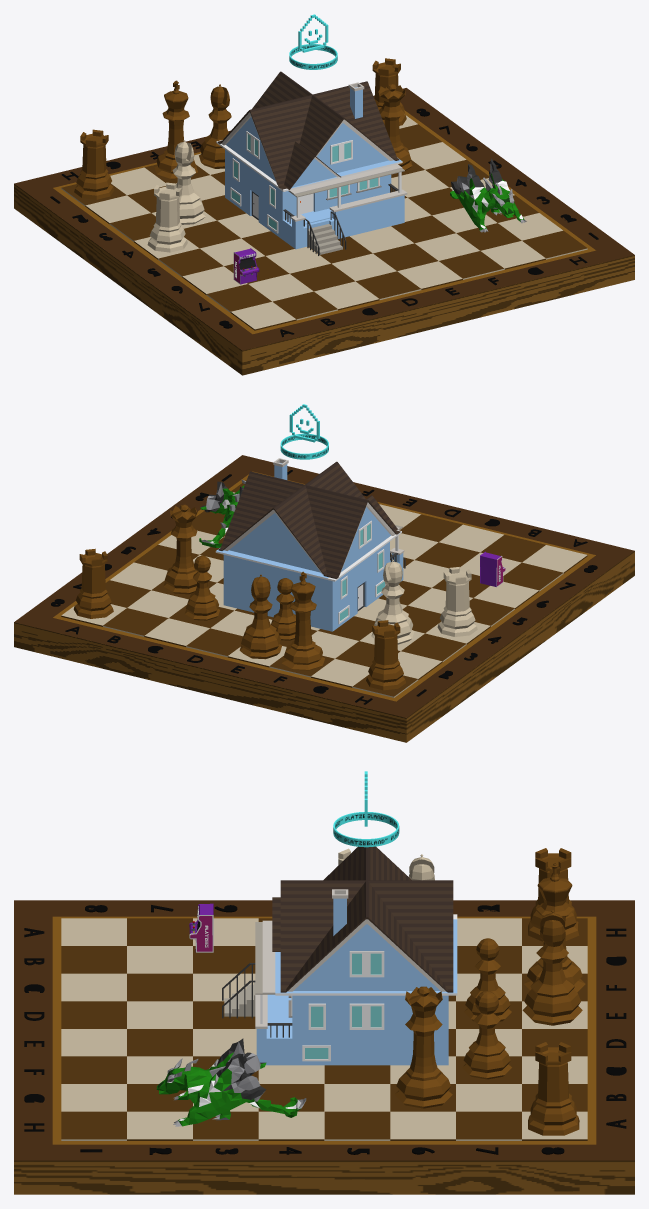
The picture shows the model from 3 angles, top to bottom: view 1: azimuth 30°, elevation 25°; view 2: azimuth 150°, elevation 25°; view 3: azimuth 270°, elevation 25°; orthographic projection. The views are drawn at different scales.
Parts seen in each view (by area): view 1: Cube.002, Cube.1594, ANIMAL_DRAGON, TYPE_PREMIUM, OBJRANDOM_ARCADE; view 2: Cube.002, Cube.1594, ANIMAL_DRAGON, TYPE_PREMIUM, OBJRANDOM_ARCADE; view 3: Cube.002, Cube.1594, ANIMAL_DRAGON, TYPE_PREMIUM, OBJRANDOM_ARCADE.
Boxes of the visible parts, x1,y1,x2,y2 form: Cube.002: (14,58,634,375); Cube.1594: (216,71,407,255); ANIMAL_DRAGON: (450,158,526,232); TYPE_PREMIUM: (289,14,337,69); OBJRANDOM_ARCADE: (233,248,259,284); Cube.002: (14,455,634,742); Cube.1594: (215,458,405,631); ANIMAL_DRAGON: (199,479,245,547); TYPE_PREMIUM: (280,404,328,459); OBJRANDOM_ARCADE: (480,551,505,587); Cube.002: (14,848,634,1194); Cube.1594: (222,846,457,1065); ANIMAL_DRAGON: (156,1038,306,1126); TYPE_PREMIUM: (333,771,399,847); OBJRANDOM_ARCADE: (189,903,213,952).
Size of the model in its own units: 3981 by 2178 by 4012.
Materials: 40 (3 with a texture image).
